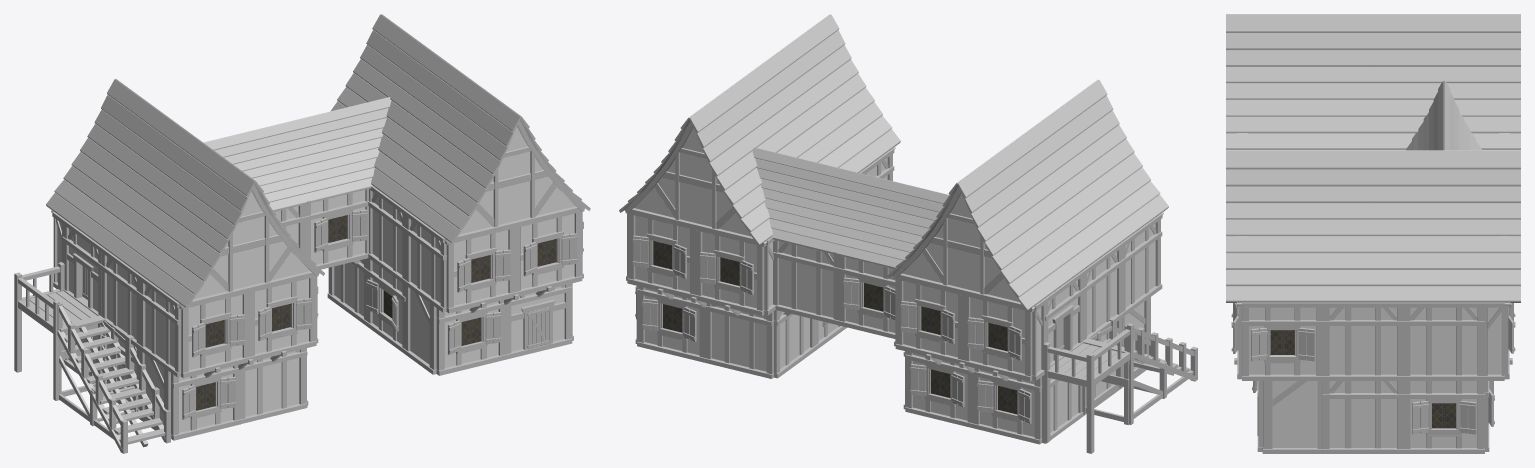
File: House_1A20.fbx
The picture shows the model from 3 angles, left to right: view 1: azimuth 30°, elevation 25°; view 2: azimuth 150°, elevation 25°; view 3: azimuth 270°, elevation 25°; orthographic projection. The views are drawn at different scales.
Parts seen in each view (by area): view 1: House_1A20, Cube.2344; view 2: House_1A20; view 3: House_1A20, Plane.274, Plane.273.
Part boxes in pixels (bbox=[...]): House_1A20: bbox=[14, 14, 590, 453]; Cube.2344: bbox=[527, 307, 550, 349]; House_1A20: bbox=[619, 14, 1197, 453]; House_1A20: bbox=[1226, 14, 1520, 453]; Plane.274: bbox=[1270, 330, 1294, 354]; Plane.273: bbox=[1432, 403, 1455, 428].
Size of the model in its own units: 2759 by 1479 by 1462.
